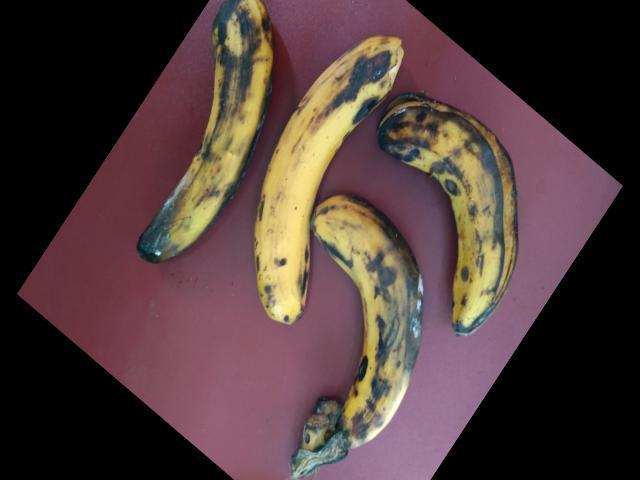overripe: (235, 21, 412, 326)
rotten: (122, 0, 282, 260), (374, 94, 528, 324), (299, 197, 431, 447)
